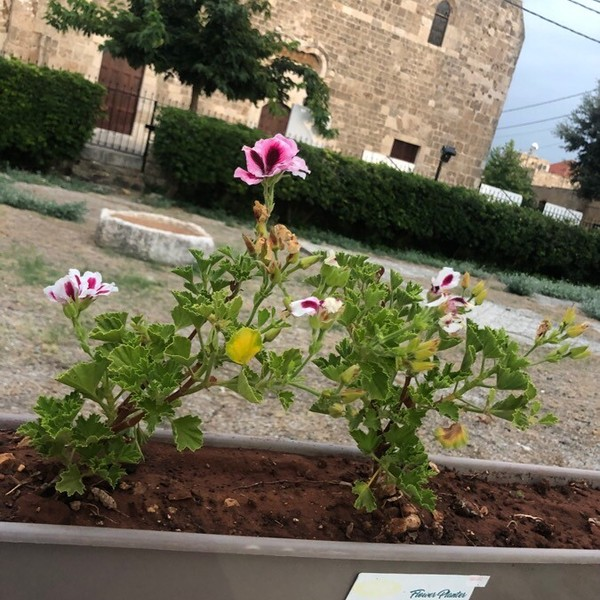obstacle: (33, 125, 286, 506), (308, 240, 531, 535)
